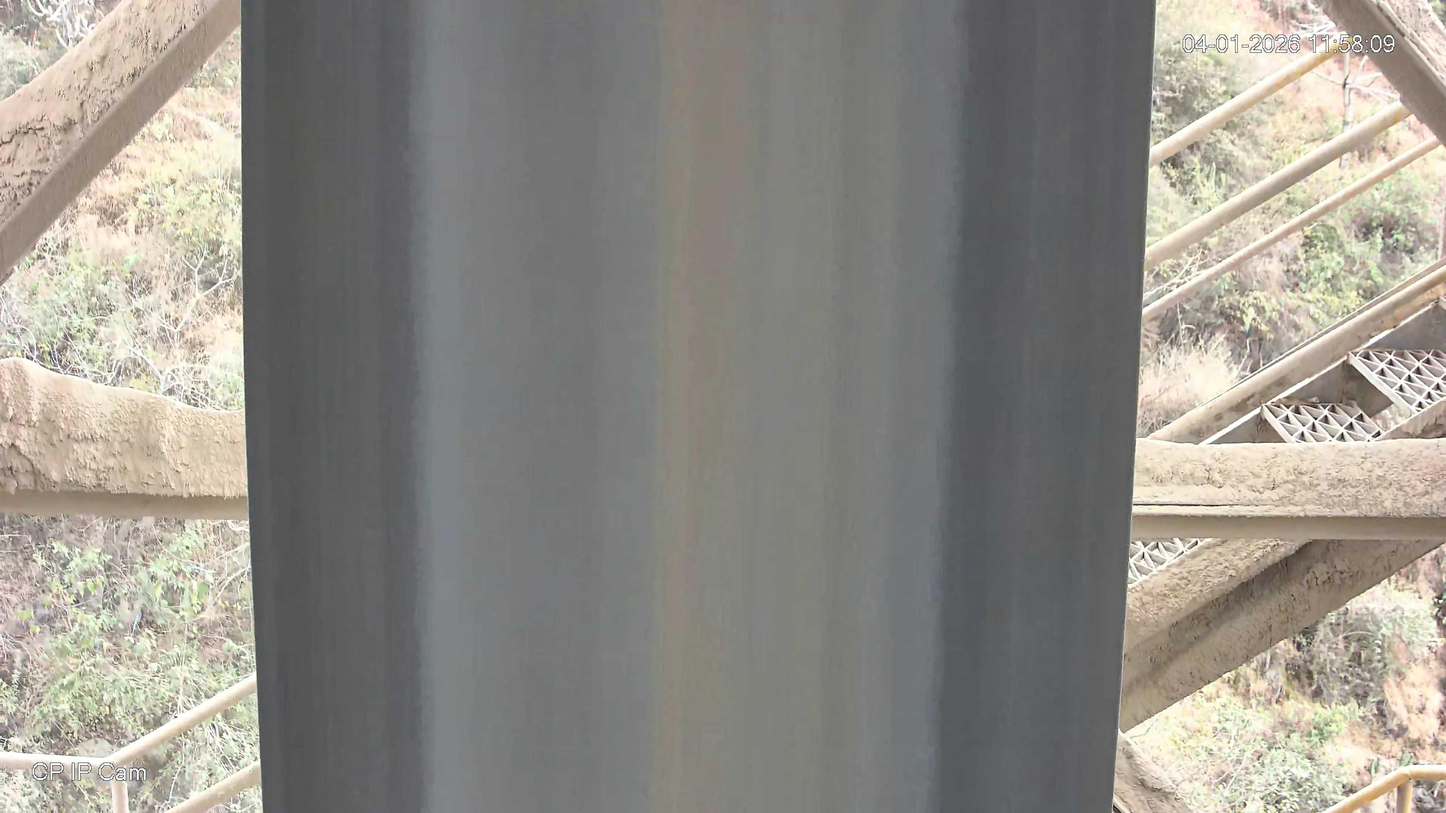belt_roi: (238, 0, 1158, 813)
